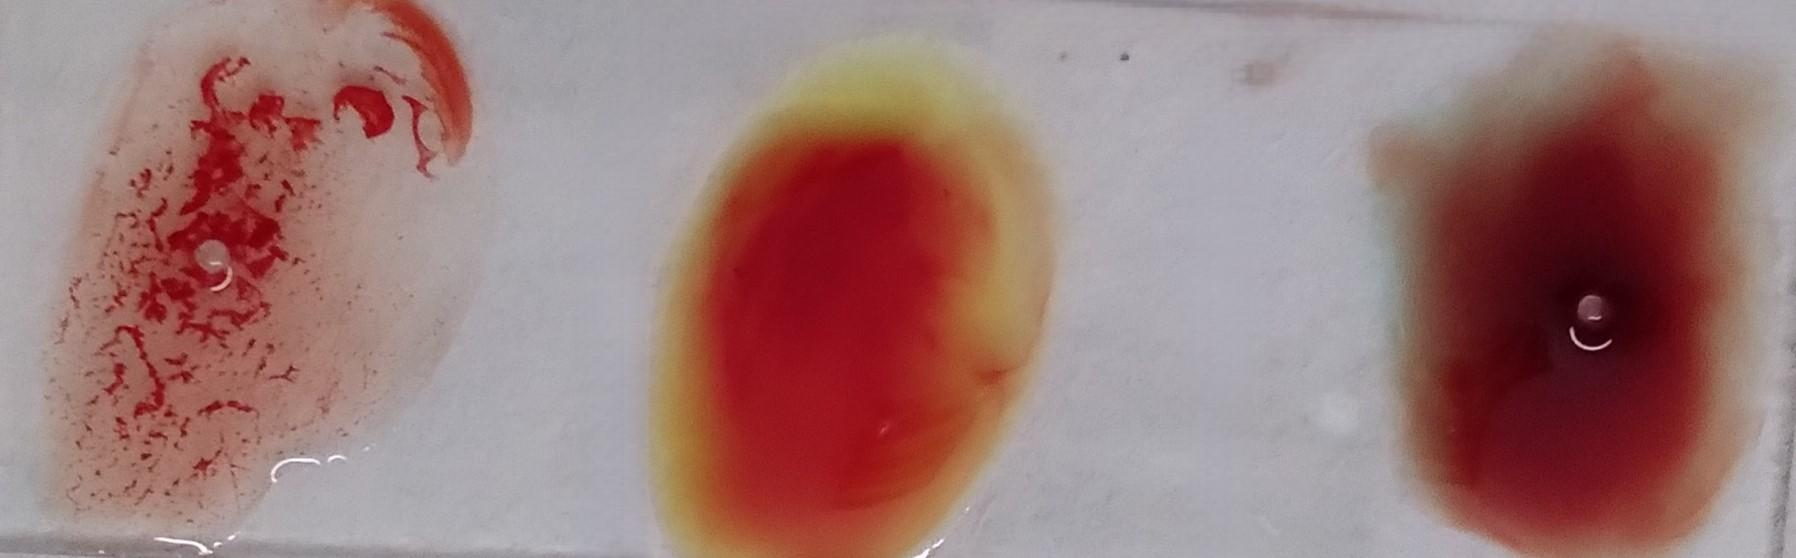D: (52, 6, 434, 558)
